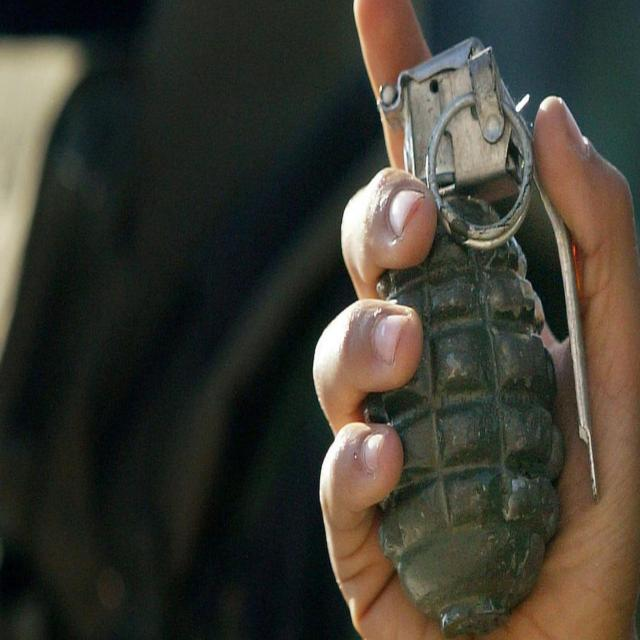grenade: (361, 38, 600, 634)
